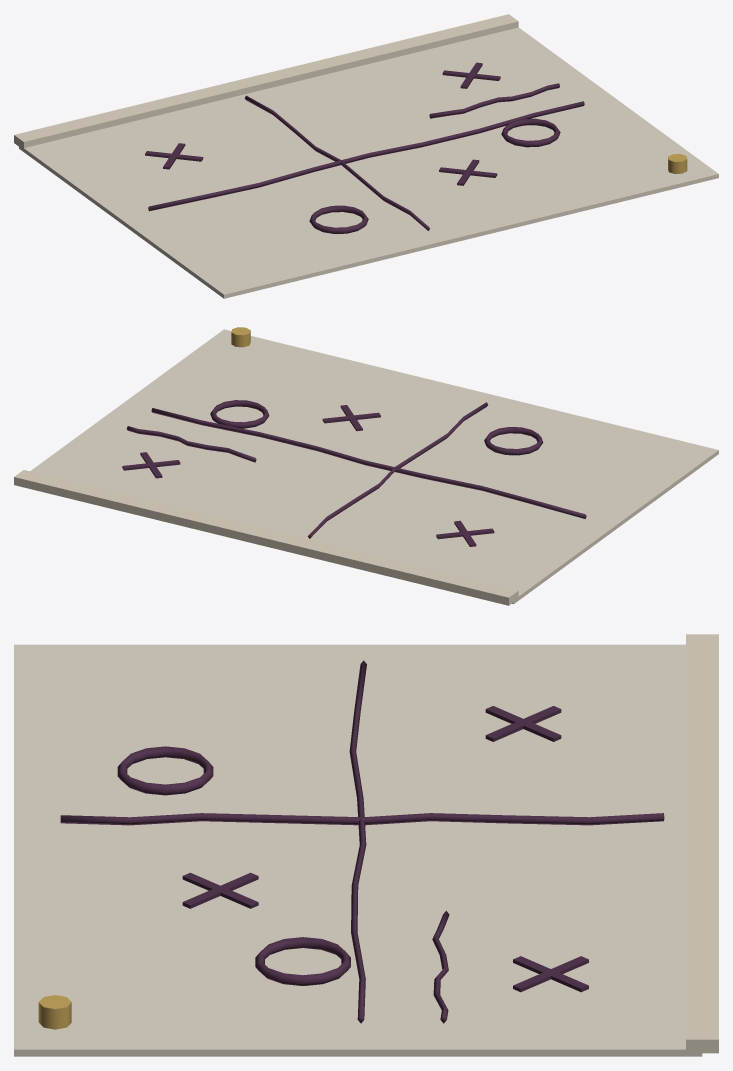
File: feyre_hall_map.glb
3 renders of one model, top to bottom at view 1: azimuth 30°, elevation 25°; view 2: azimuth 150°, elevation 25°; view 3: azimuth 270°, elevation 25°, orthographic. The views are drawn at different scales.
Visible parts, largest first — view 1: feyre_hall_map; view 2: feyre_hall_map; view 3: feyre_hall_map.
Part boxes in pixels (x1,y1,x2,y2): feyre_hall_map: (14,14,718,298); feyre_hall_map: (14,327,718,605); feyre_hall_map: (14,634,718,1056).
Size of what is drawn, in the model's own units: 0.34 by 0.012 by 0.25.
